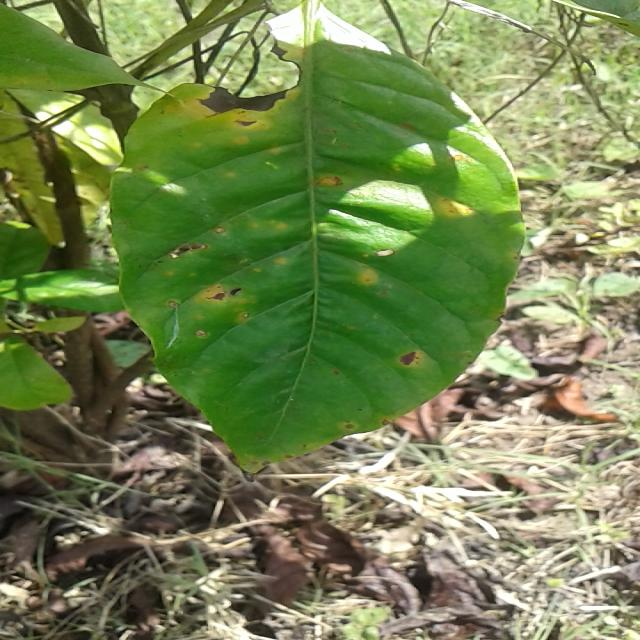Enfermedad-Roya: (109, 36, 525, 466)
